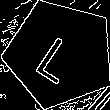L_NE: (32, 25, 88, 84)
